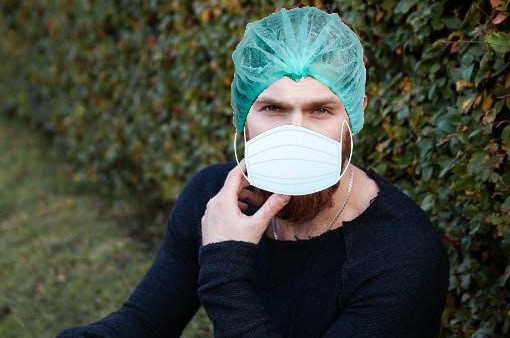with_mask_and_cap: (230, 9, 366, 199)
